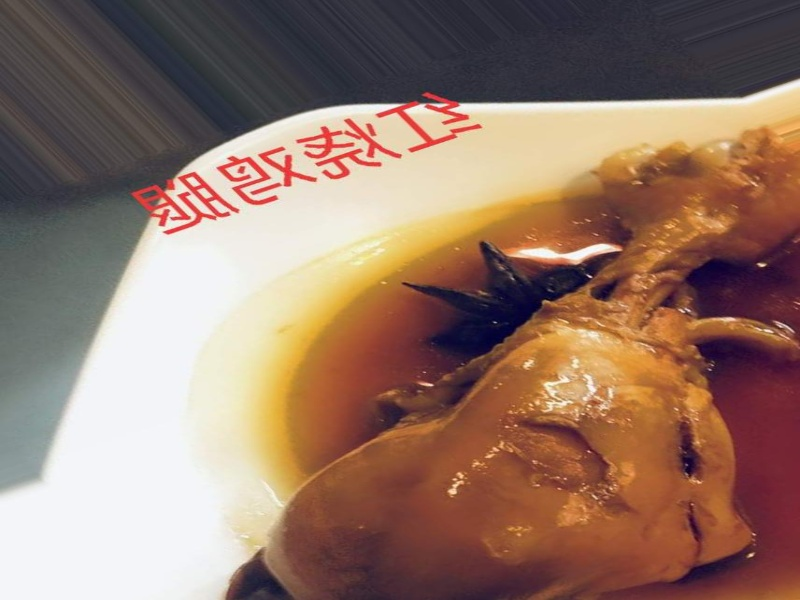chicken: (310, 182, 800, 594)
